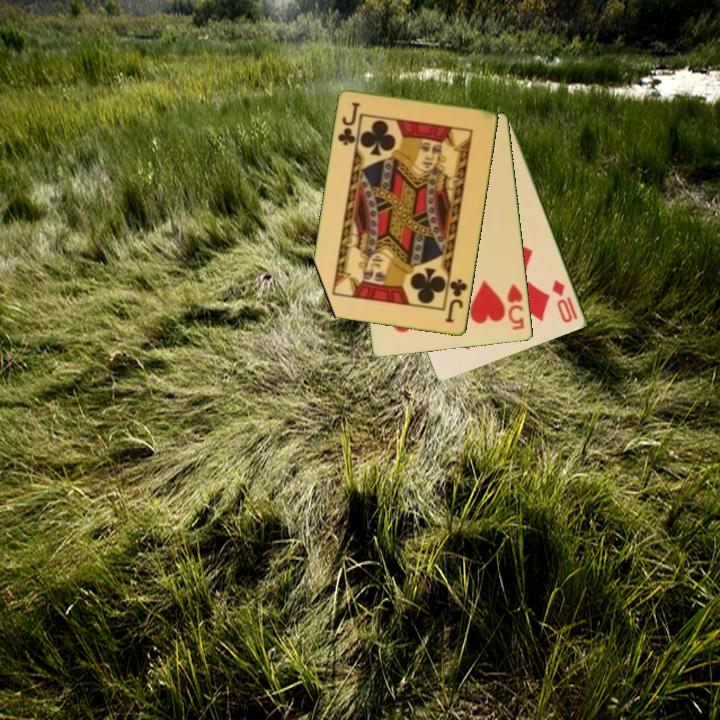10d: (549, 276, 581, 326)
5h: (504, 281, 527, 333)
Jc: (334, 99, 363, 149), (442, 276, 470, 326)
